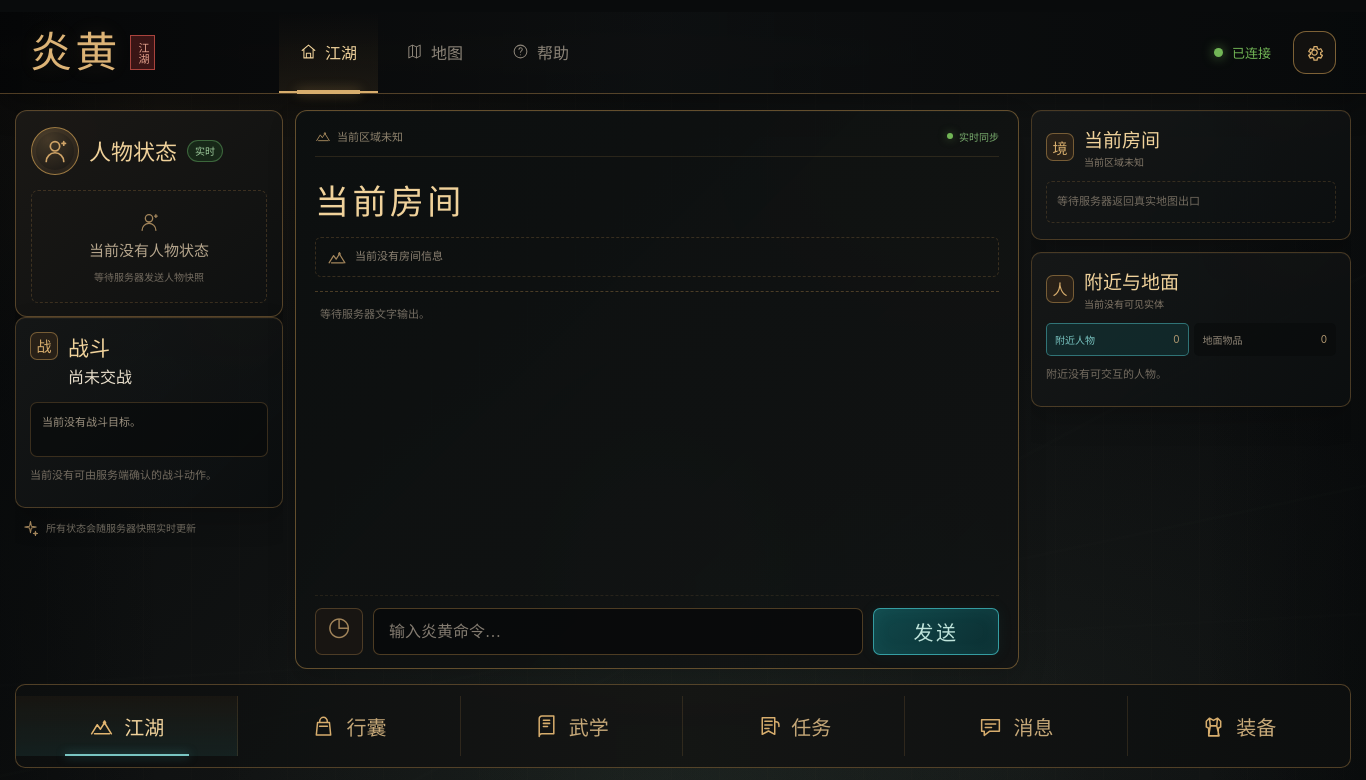
Test: App › keeps an unfinished command draft when switching between views
Type "examine xxx" into the field named "MUD 命令" at [618, 632], box 373,608 -> 863,655
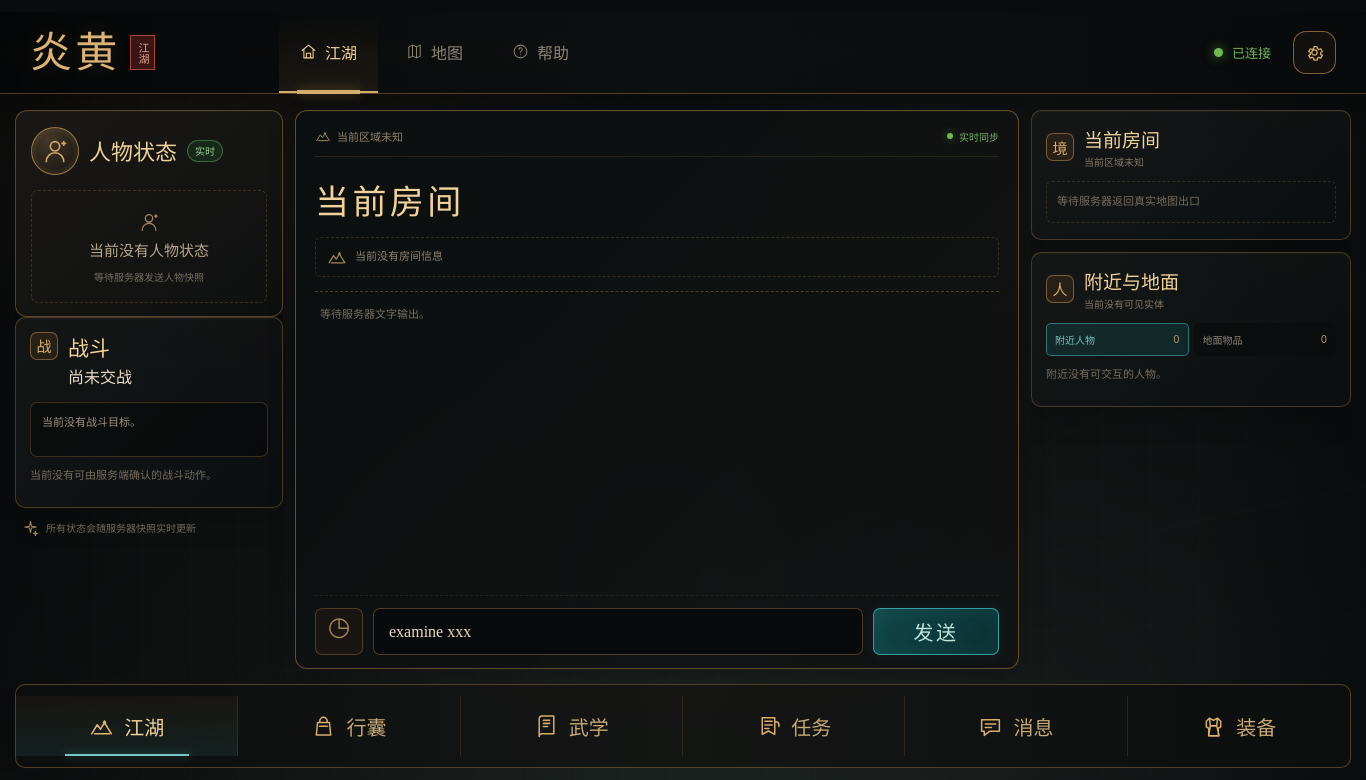
Click the button "地图" at [434, 52], box 385,12 -> 484,93
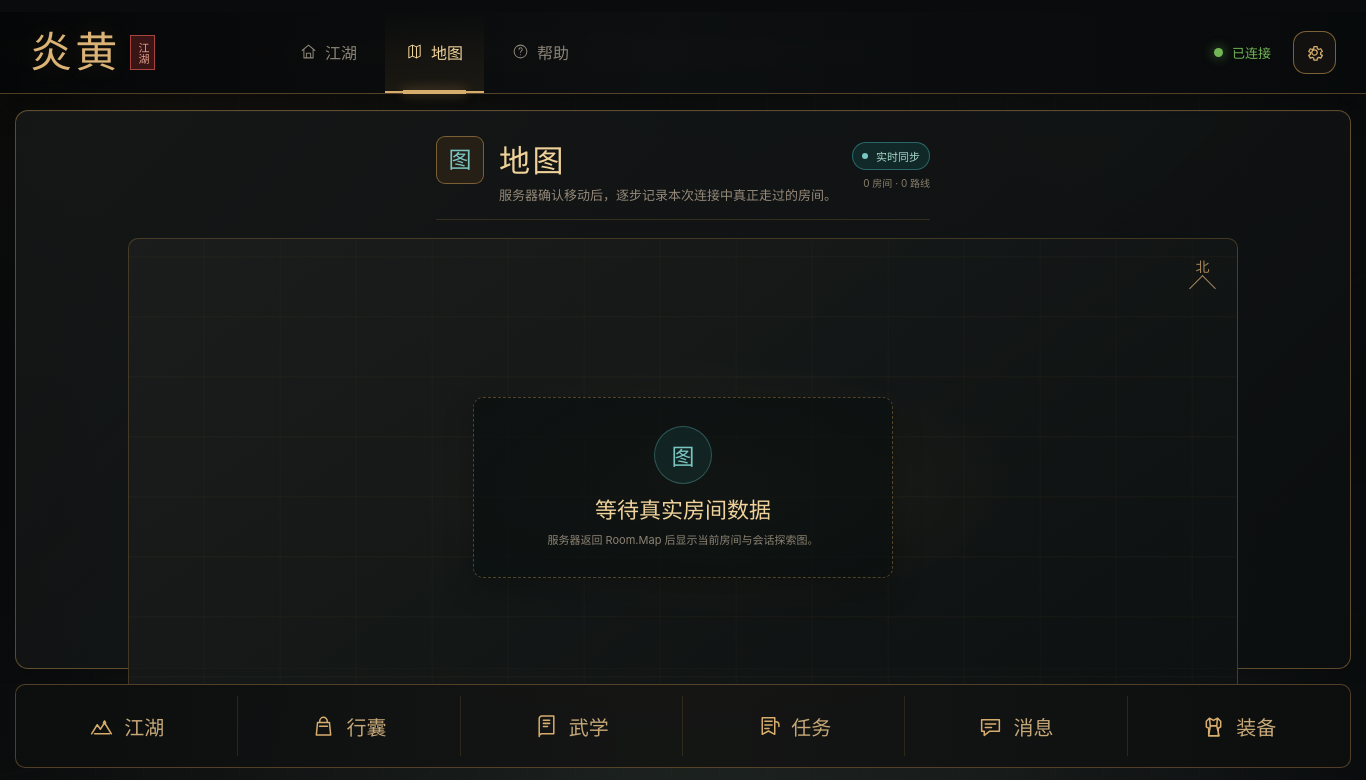
Click the button "江湖" in the row of "已连接" at [328, 52], box 279,12 -> 378,93
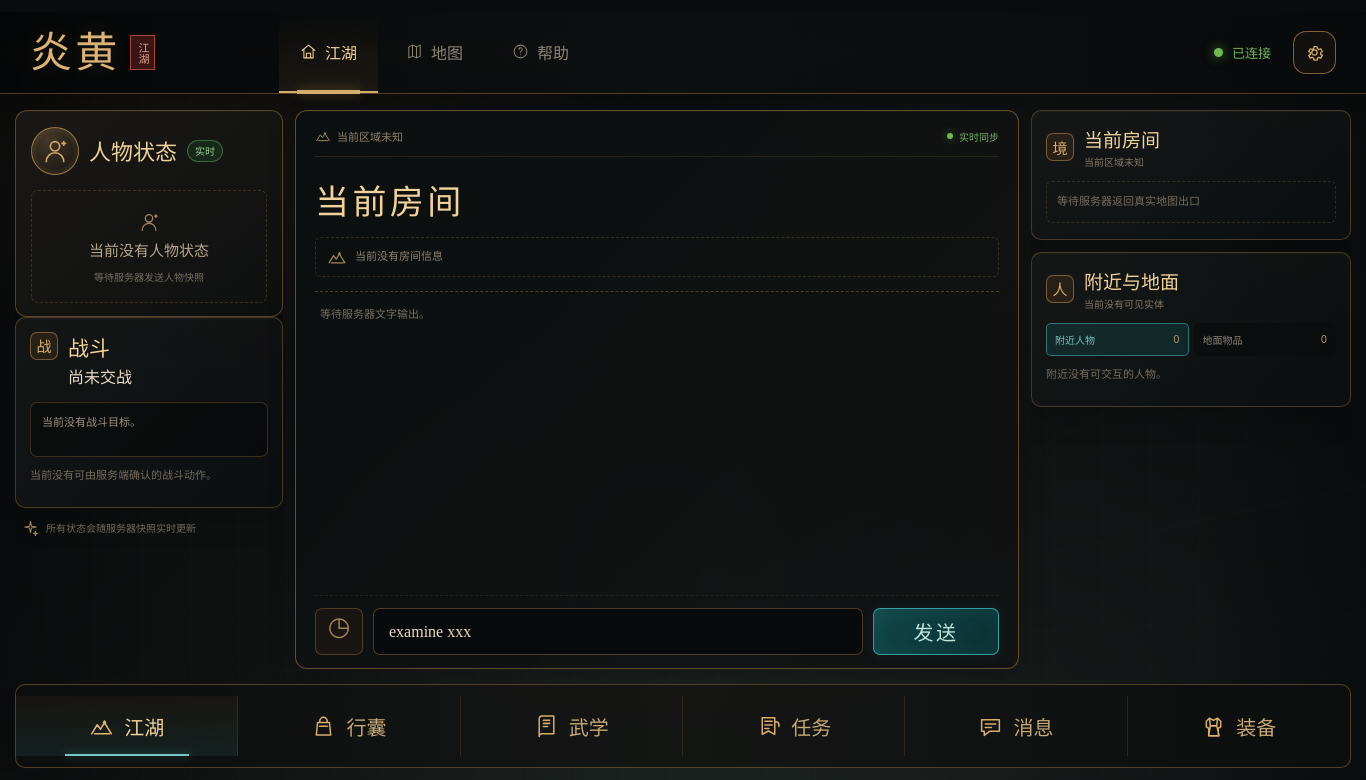
Now the field named "MUD 命令" holds "examine xxx", box 373,608 -> 863,655
